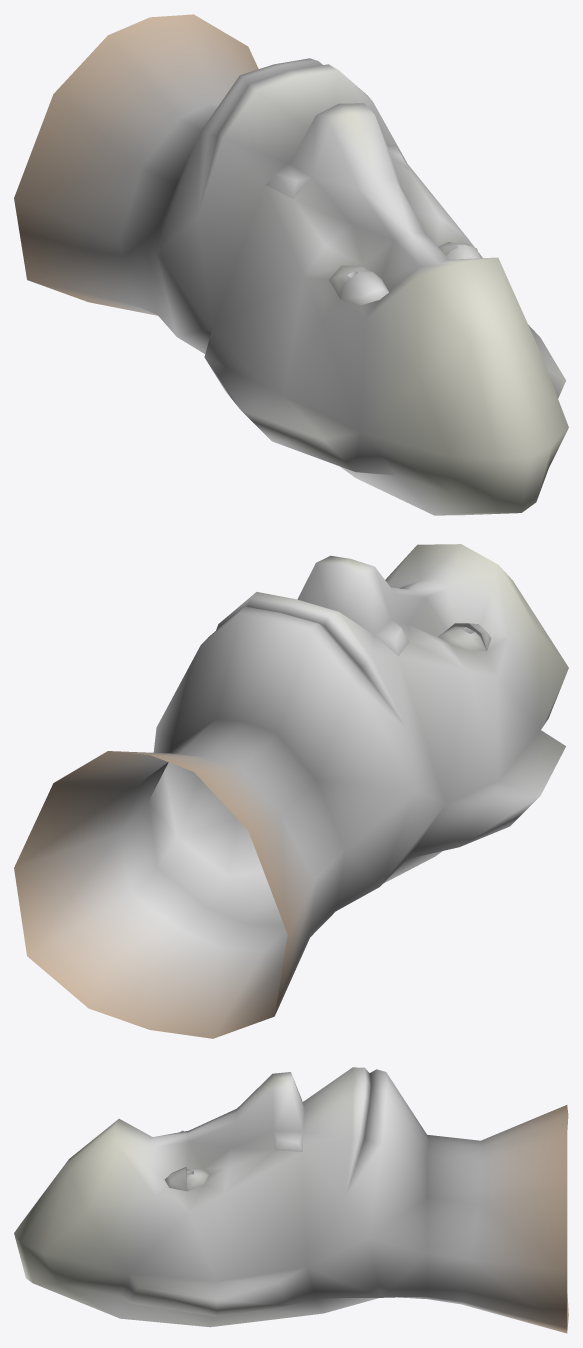
Rendered from EasterIsland.glb.
3 views of the same model, one above another, from view 1: azimuth 30°, elevation 25°; view 2: azimuth 150°, elevation 25°; view 3: azimuth 270°, elevation 25° (orthographic). The views are drawn at different scales.
Visible parts, largest first — view 1: MeshNode_0; view 2: MeshNode_0; view 3: MeshNode_0.
Part boxes in pixels (x1,y1,x2,y2): MeshNode_0: (14, 14, 568, 515); MeshNode_0: (14, 544, 568, 1038); MeshNode_0: (14, 1067, 568, 1333).
Bounding box in the file's own units: 14.59 × 15.25 × 32.09.
